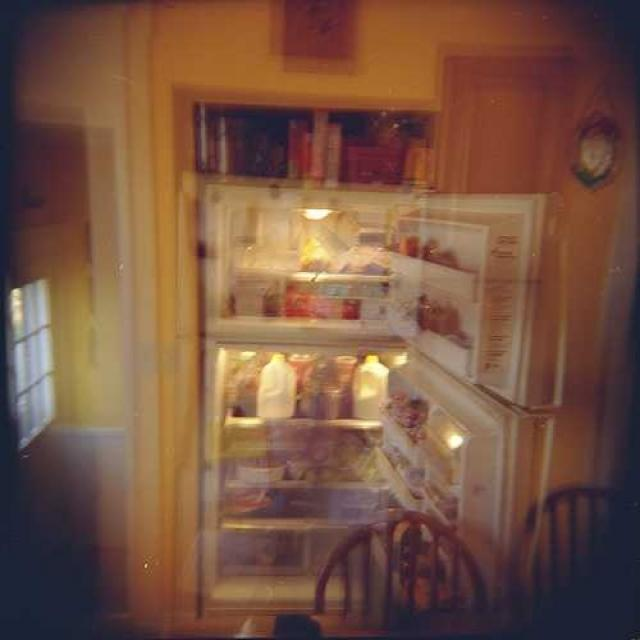refrigerator: (205, 190, 442, 611)
